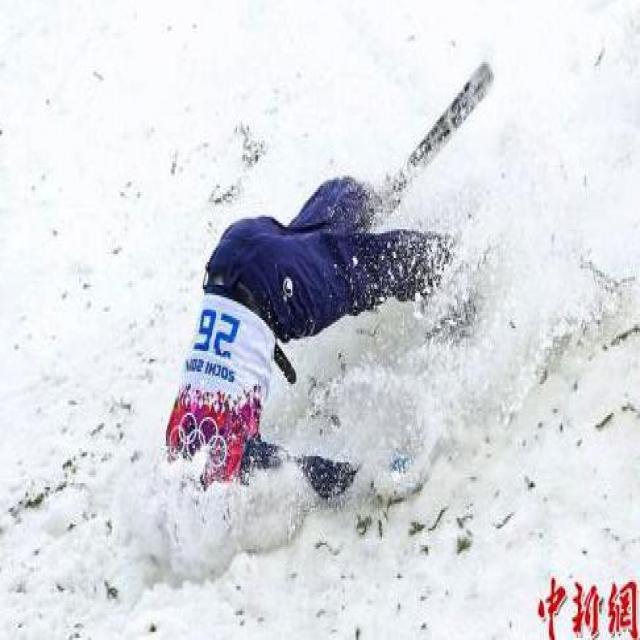fall: (156, 162, 460, 534)
